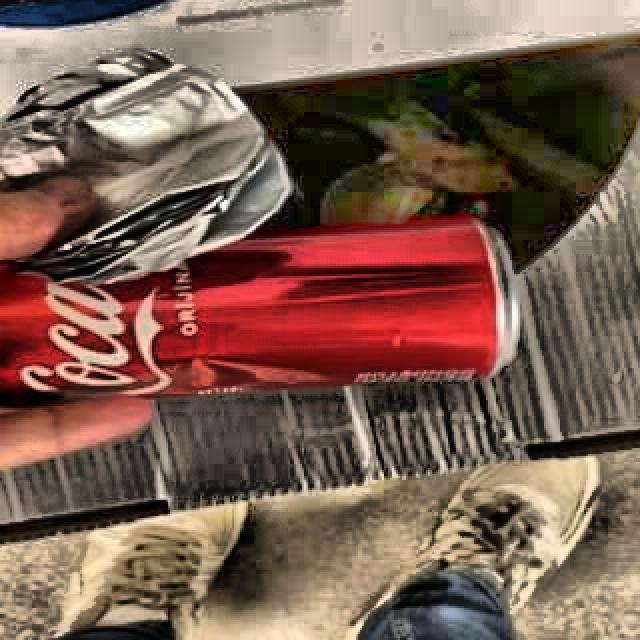metal: (0, 220, 520, 409)
